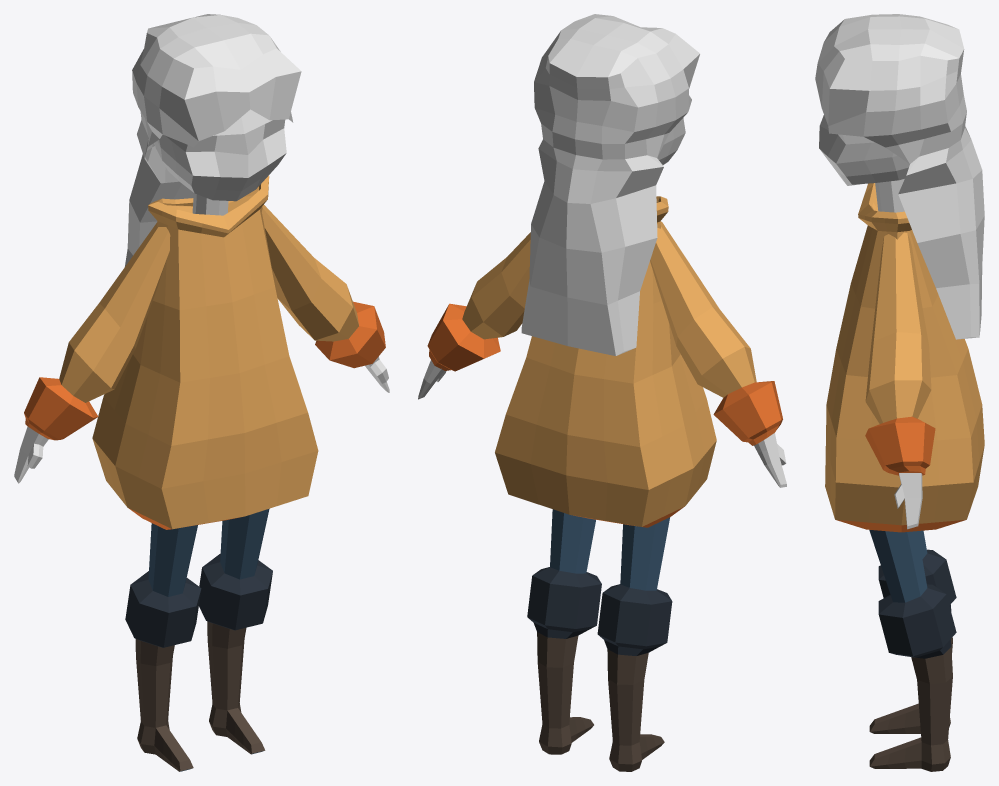
Rendered from NPC.fbx.
3 renders of one model, left to right at view 1: azimuth 30°, elevation 25°; view 2: azimuth 150°, elevation 25°; view 3: azimuth 270°, elevation 25°, orthographic.
Parts seen in each view (by area): view 1: Cube.001; view 2: Cube.001; view 3: Cube.001.
Part boxes in pixels (x1=…): Cube.001: x1=14, y1=14, x2=389, y2=771; Cube.001: x1=418, y1=14, x2=786, y2=771; Cube.001: x1=815, y1=14, x2=984, y2=771.
Size of the model in its own units: 203 by 377 by 80.66.
